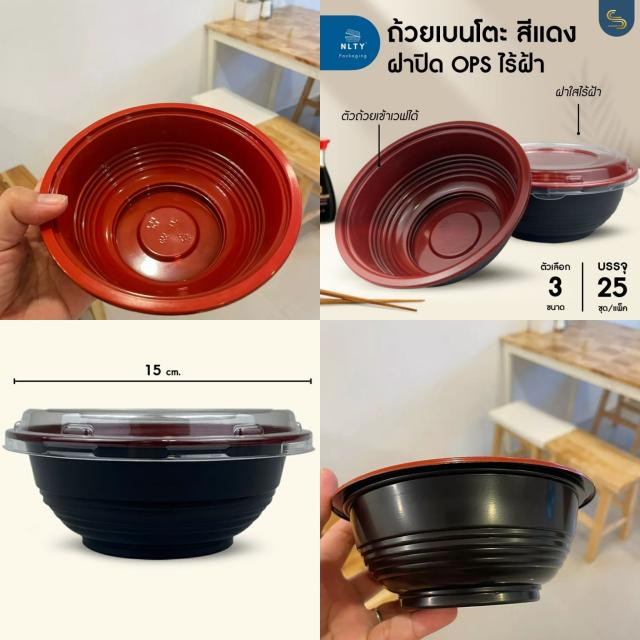Single-Use-Plastic: (41, 104, 301, 313), (5, 409, 314, 558), (332, 458, 595, 608), (335, 121, 531, 288), (514, 142, 638, 242)
